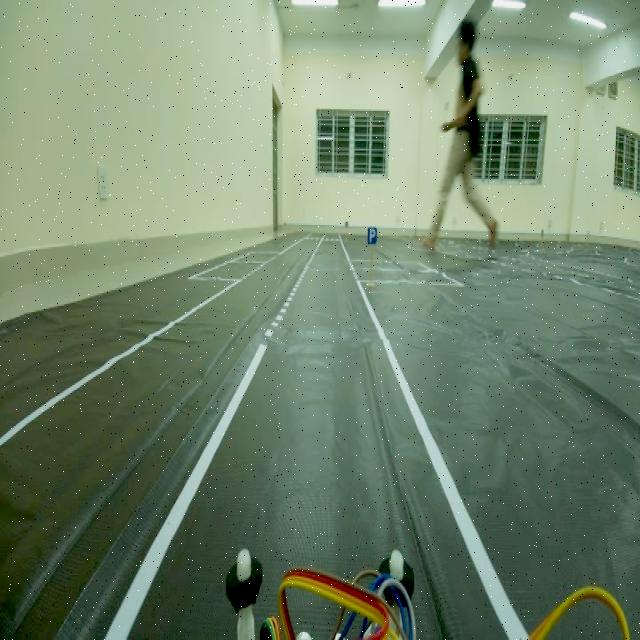parking: (364, 217, 380, 249)
